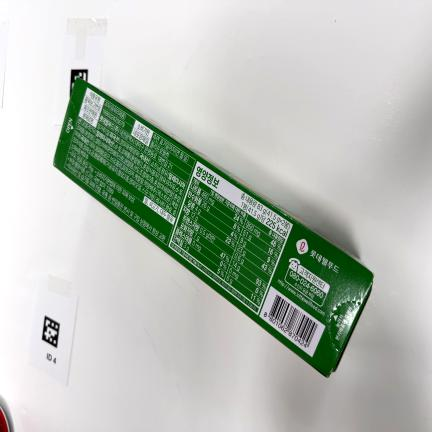cracker_vege: (53, 80, 373, 376)
